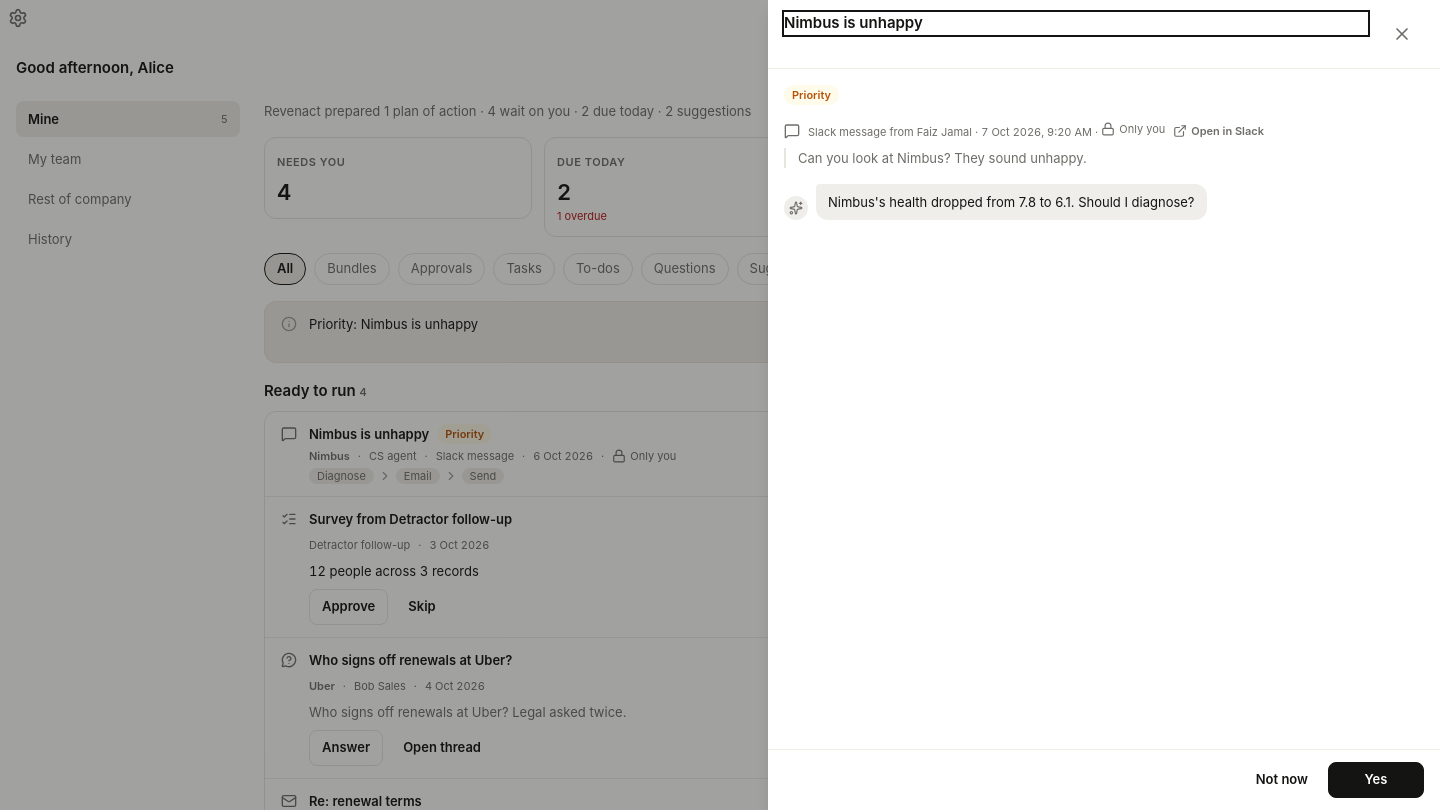
Guided conversation (guided agent, 2026-10-18) › Yes runs the step and answers with the summary and the findings, linked safely
The width and height of the screenshot is (1440, 810).
Click the button "Yes" at (1376, 780), box [1328,762,1424,798]
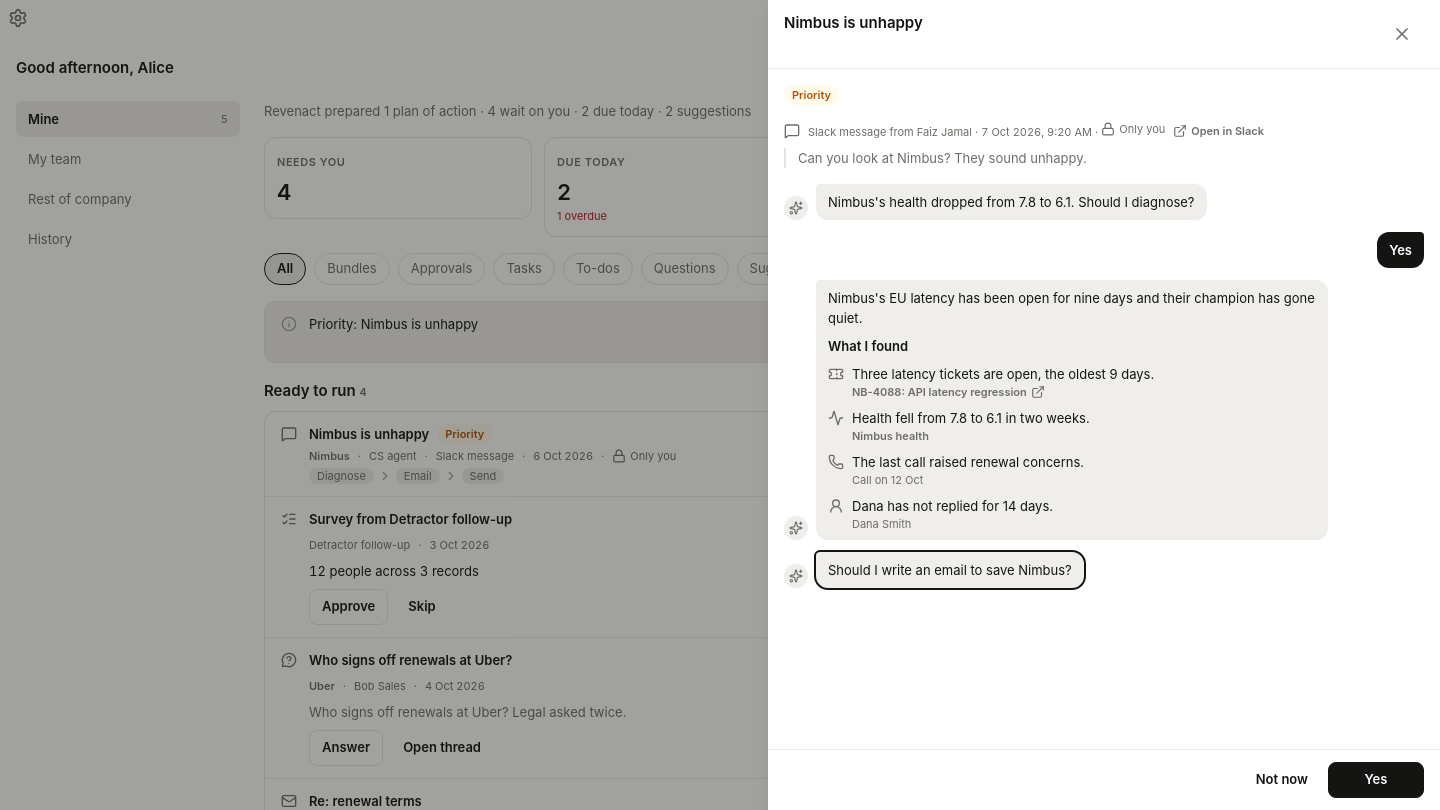
Result: the text "Yes" is shown at [1377,232,1424,268]
Result: the text "Should I write an email to save Nimbus?" is shown at [828,560,1072,580]
Result: the element showing "Should I write an email to save Nimbus?" is shown at [816,552,1084,588]
